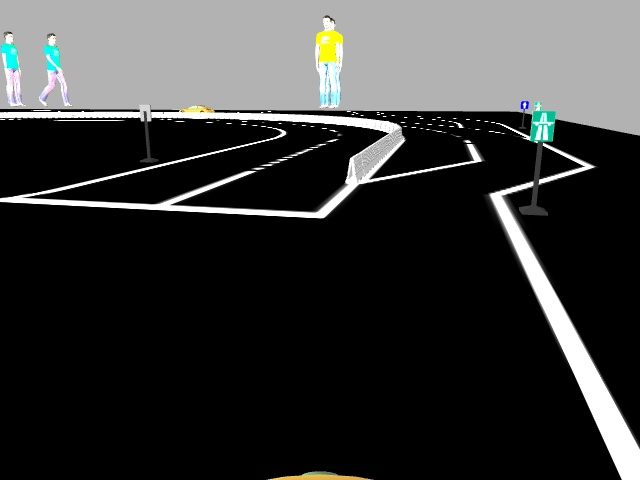HighwayEntrance: (529, 108, 555, 142)
